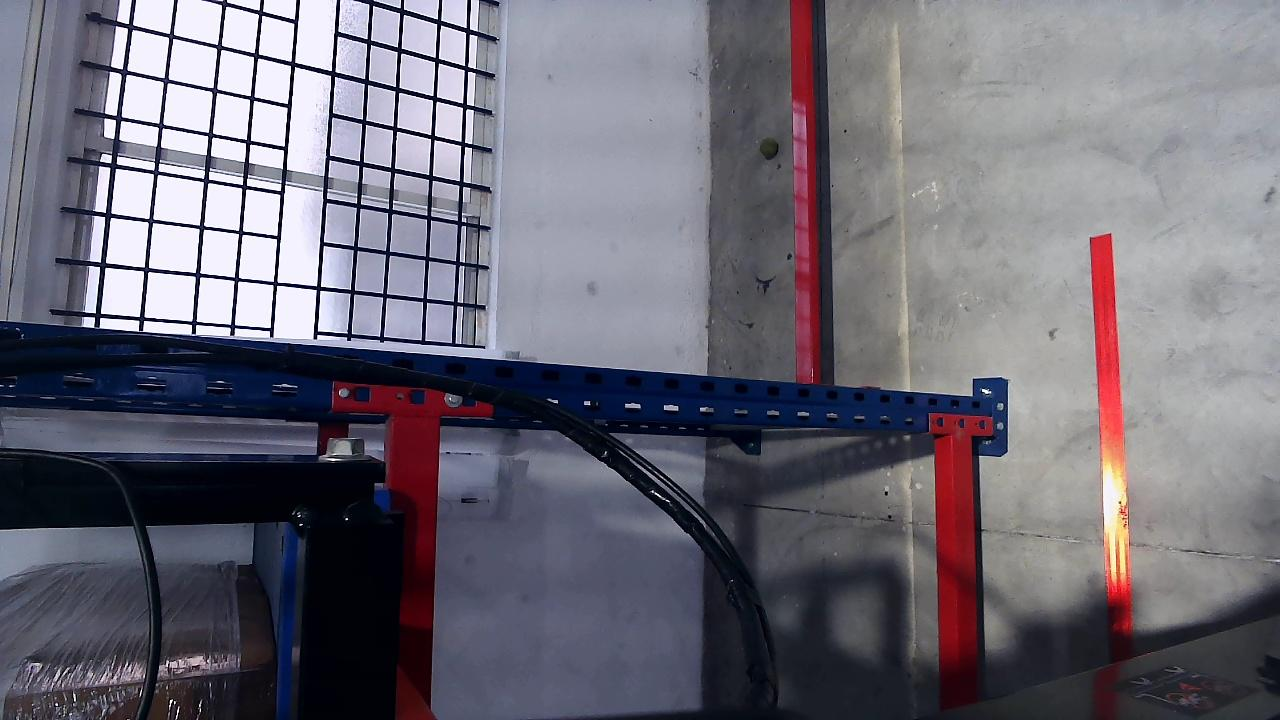h_rack: (948, 430, 980, 696)
red_line: (1088, 233, 1133, 614)
